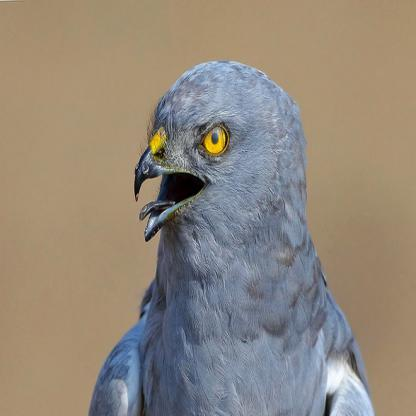Burung: (86, 57, 374, 413)
